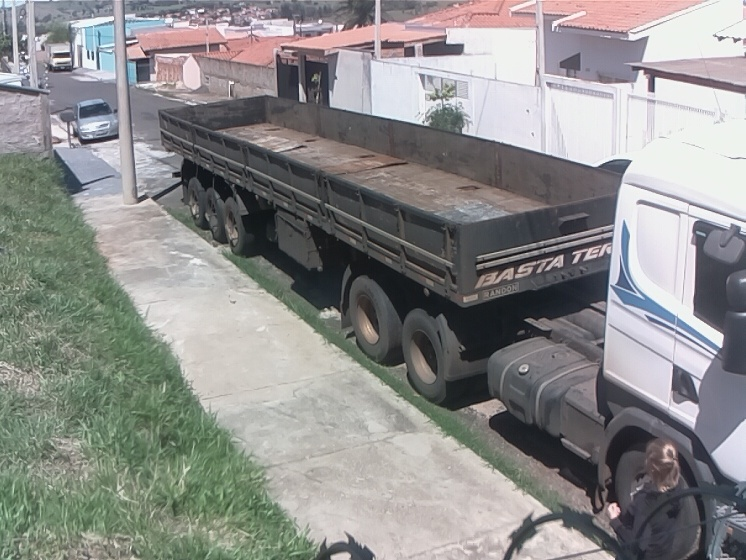person: (602, 436, 687, 560)
